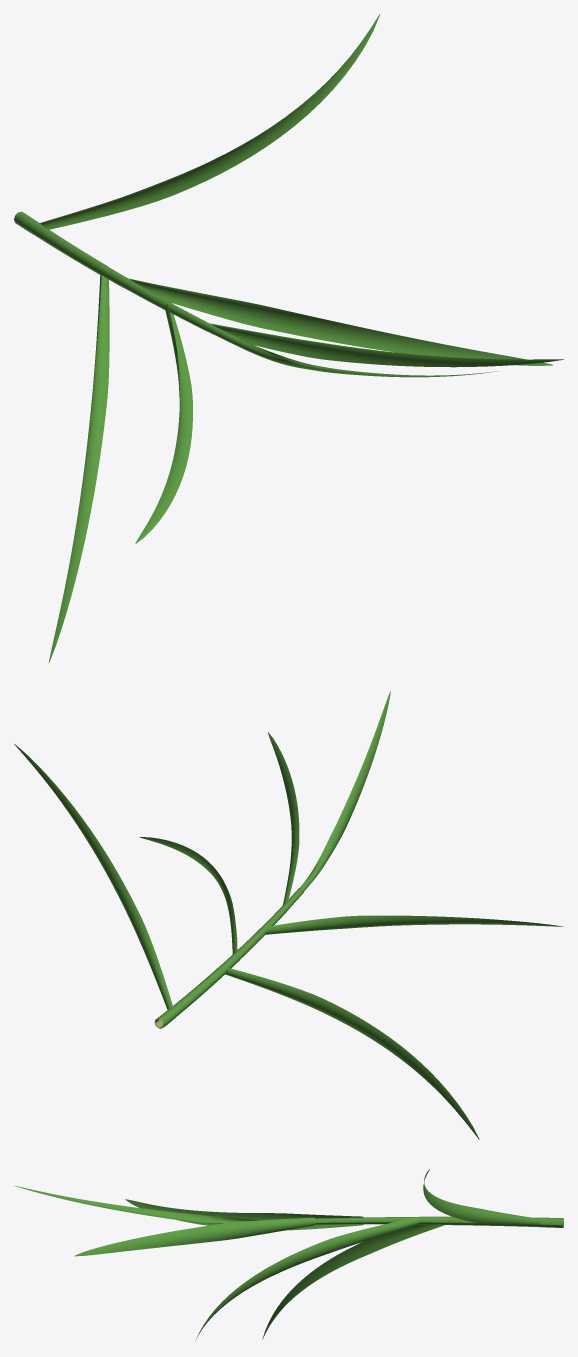
Rendered from grass_plant.glb.
The picture shows the model from 3 angles, top to bottom: view 1: azimuth 30°, elevation 25°; view 2: azimuth 150°, elevation 25°; view 3: azimuth 270°, elevation 25°; orthographic projection. The views are drawn at different scales.
Parts seen in each view (by area): view 1: GrassPlant_Mesh; view 2: GrassPlant_Mesh; view 3: GrassPlant_Mesh.
Part boxes in pixels (x1,y1,x2,y2): GrassPlant_Mesh: (14, 14, 563, 662); GrassPlant_Mesh: (14, 691, 563, 1139); GrassPlant_Mesh: (14, 1169, 563, 1341).
Size of the model in its own units: 0.2332 by 0.2178 by 0.3291.
